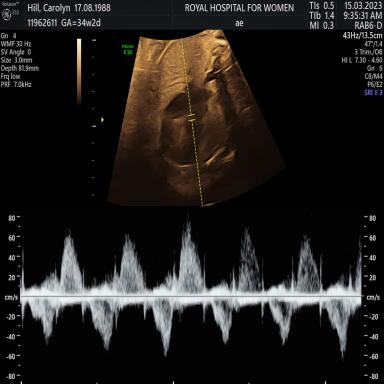Ultrasound-Waves: (26, 210, 360, 384)
